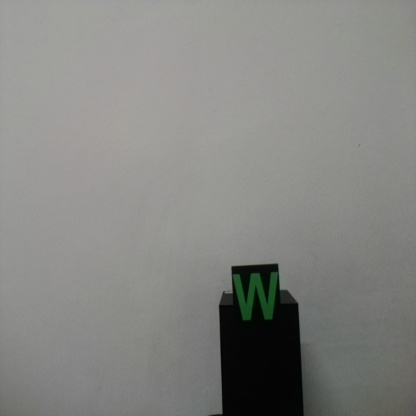id_12: (231, 265, 281, 337)
